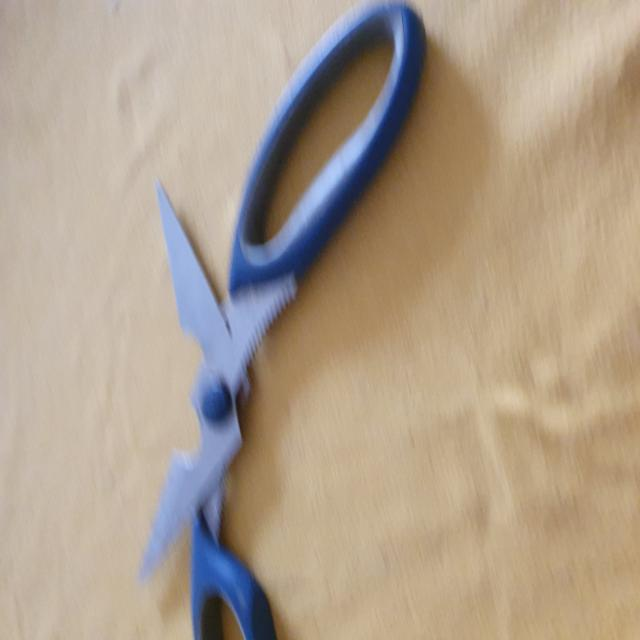scissors: (137, 0, 429, 640)
